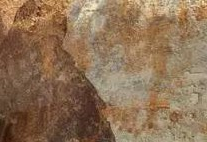Corrosion: (1, 1, 116, 142)
